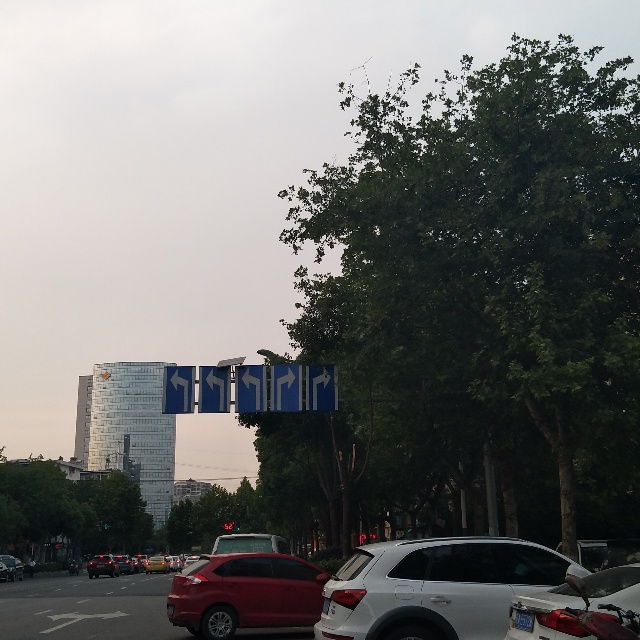left: (163, 365, 196, 414), (235, 366, 267, 412), (199, 366, 230, 413)
right: (305, 364, 338, 411), (270, 364, 302, 412)
